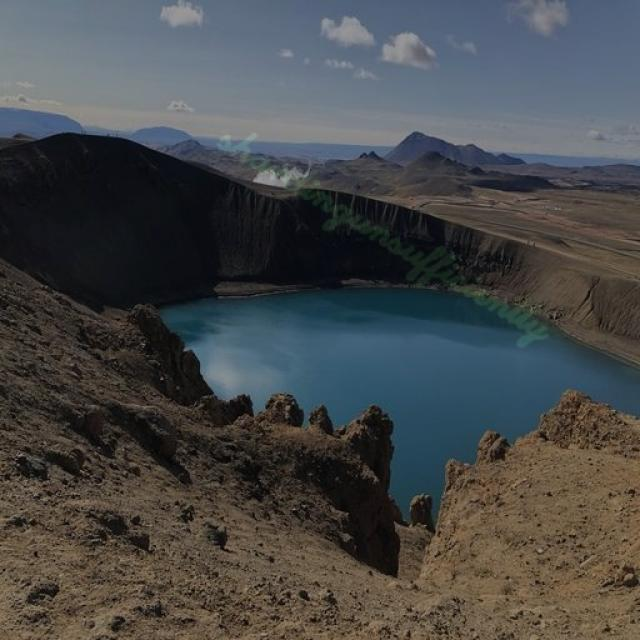watermark: (208, 115, 572, 349)
